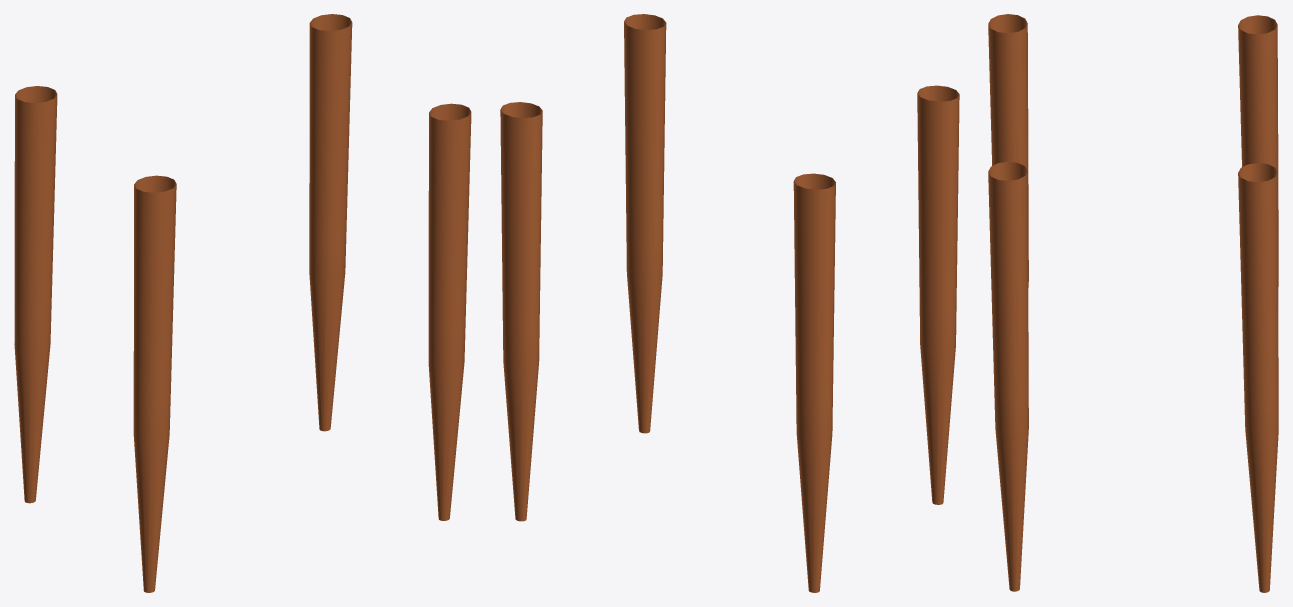
Rendered from 4_ayakl.fbx.
The picture shows the model from 3 angles, left to right: view 1: azimuth 30°, elevation 25°; view 2: azimuth 150°, elevation 25°; view 3: azimuth 270°, elevation 25°; orthographic projection. The views are drawn at different scales.
Visible parts, largest first — view 1: Cylinder.002; view 2: Cylinder.002; view 3: Cylinder.002.
Boxes of the visible parts, <box> form: Cylinder.002: <box>14,14,471,592</box>; Cylinder.002: <box>500,14,959,592</box>; Cylinder.002: <box>988,14,1278,592</box>.
Bounding box in the file's own units: 23230 × 27051 × 16983.
